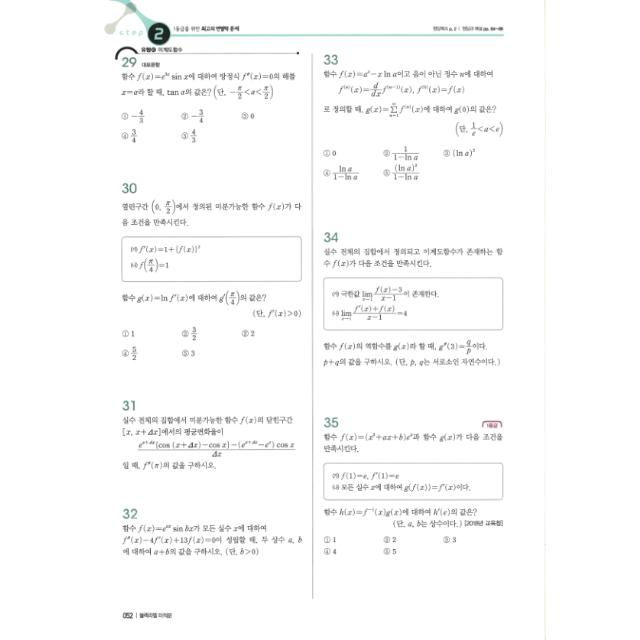multiple: (111, 173, 306, 369), (316, 410, 516, 564), (316, 47, 512, 189), (110, 41, 306, 153)
short: (316, 226, 512, 376), (113, 392, 307, 476), (115, 500, 308, 566)
